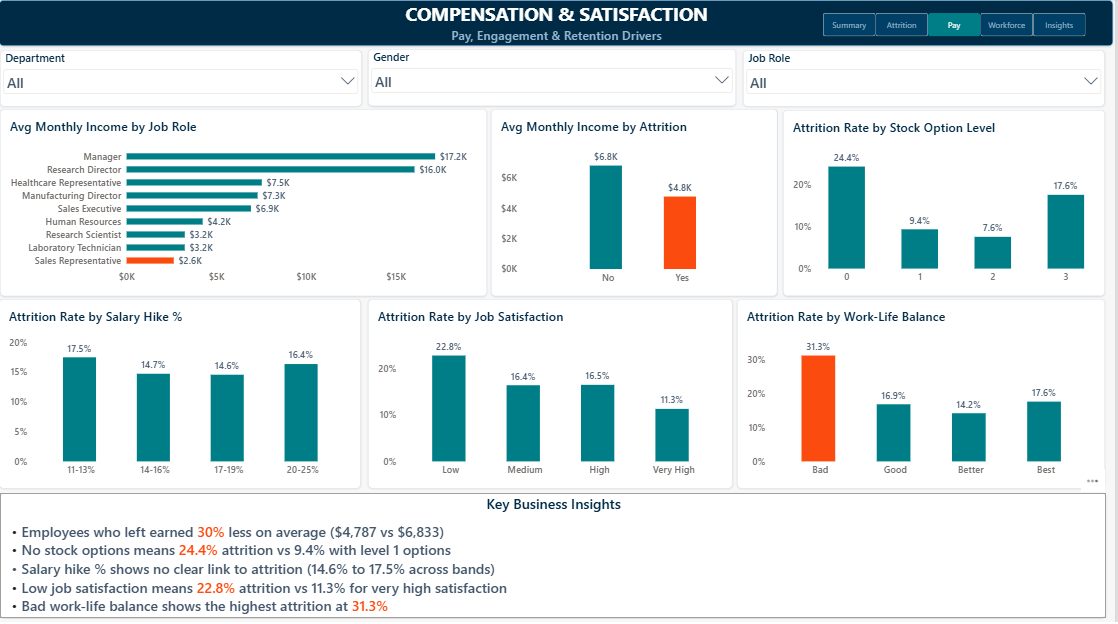

This screenshot's page, from the dashboard's own definition file:
{"tool":"powerbi","page":{"name":"Pay","canvas":[1920,1080],"ordinal":2},"visuals":[{"type":"textbox","title":"COMPENSATION & SATISFACTION","box":[6.1,4,1909.9,78.8],"z":0},{"type":"clusteredBarChart","title":"Avg Monthly Income by Job Role","fields":{"Category":["HR_Data.JobRole"],"Y":["_Measures.Avg Monthly Income"]},"box":[8.6,190.3,834.9,320.6],"z":1000},{"type":"clusteredColumnChart","title":"Attrition Rate by Stock Option Level","fields":{"Category":["HR_Data.StockOptionLevel"],"Y":["_Measures.Attrition Rate"]},"box":[1350.9,192,552,318.9],"z":2000},{"type":"clusteredColumnChart","title":"Attrition Rate by Salary Hike %","fields":{"Category":["HR_Data.Hike Band"],"Y":["_Measures.Attrition Rate"]},"box":[6.1,515.4,620.5,325.4],"z":3000},{"type":"clusteredColumnChart","title":"Attrition Rate by Job Satisfaction","fields":{"Category":["HR_Data.Job Satisfaction Level"],"Y":["_Measures.Attrition Rate"]},"box":[638.7,515.4,624.5,325.4],"z":4000},{"type":"clusteredColumnChart","title":"Attrition Rate by Work-Life Balance","fields":{"Category":["HR_Data.WorkLife Balance Level"],"Y":["_Measures.Attrition Rate"]},"box":[1271.2,515.4,630.6,325.4],"z":5000},{"type":"slicer","fields":{"Values":["HR_Data.Department"]},"box":[8.1,88.9,620,97],"z":6000},{"type":"slicer","fields":{"Values":["HR_Data.Gender"]},"box":[639.4,87.4,630.9,97.7],"z":7000},{"type":"slicer","fields":{"Values":["HR_Data.JobRole"]},"box":[1282.3,89.1,620.5,97],"z":8000},{"type":"textbox","title":"Key Business Insights","box":[8.6,848.6,1896,214.3],"z":9000},{"type":"clusteredColumnChart","fields":{"Category":["HR_Data.Attrition"],"Y":["_Measures.Avg Monthly Income"]},"box":[850.9,190,491.1,321.3],"z":10000},{"type":"pageNavigator","box":[1418.8,26.3,452.7,40.4],"z":11000}]}

Visuals, with their boxes in screenshot pixels (x1, y1, x2, y2), scaled from the page's 1920x1080 canvas onto the 1118x624 screenshot:
"COMPENSATION & SATISFACTION" textbox: x1=4, y1=2, x2=1116, y2=48
"Avg Monthly Income by Job Role" clusteredBarChart: x1=5, y1=110, x2=491, y2=295
"Attrition Rate by Stock Option Level" clusteredColumnChart: x1=787, y1=111, x2=1108, y2=295
"Attrition Rate by Salary Hike %" clusteredColumnChart: x1=4, y1=298, x2=365, y2=486
"Attrition Rate by Job Satisfaction" clusteredColumnChart: x1=372, y1=298, x2=736, y2=486
"Attrition Rate by Work-Life Balance" clusteredColumnChart: x1=740, y1=298, x2=1107, y2=486
slicer - HR_Data.Department: x1=5, y1=51, x2=366, y2=107
slicer - HR_Data.Gender: x1=372, y1=50, x2=740, y2=107
slicer - HR_Data.JobRole: x1=747, y1=51, x2=1108, y2=108
"Key Business Insights" textbox: x1=5, y1=490, x2=1109, y2=614
clusteredColumnChart - HR_Data.Attrition x _Measures.Avg Monthly Income: x1=495, y1=110, x2=781, y2=295
pageNavigator: x1=826, y1=15, x2=1090, y2=39
